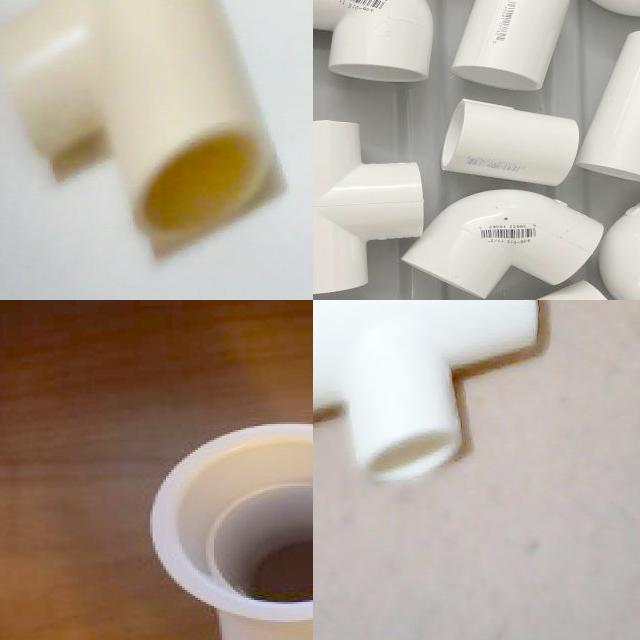L Joint: (400, 189, 604, 300), (313, 0, 434, 87), (605, 203, 640, 300)
T Joint: (313, 300, 552, 486), (313, 120, 424, 297), (575, 32, 640, 184)
